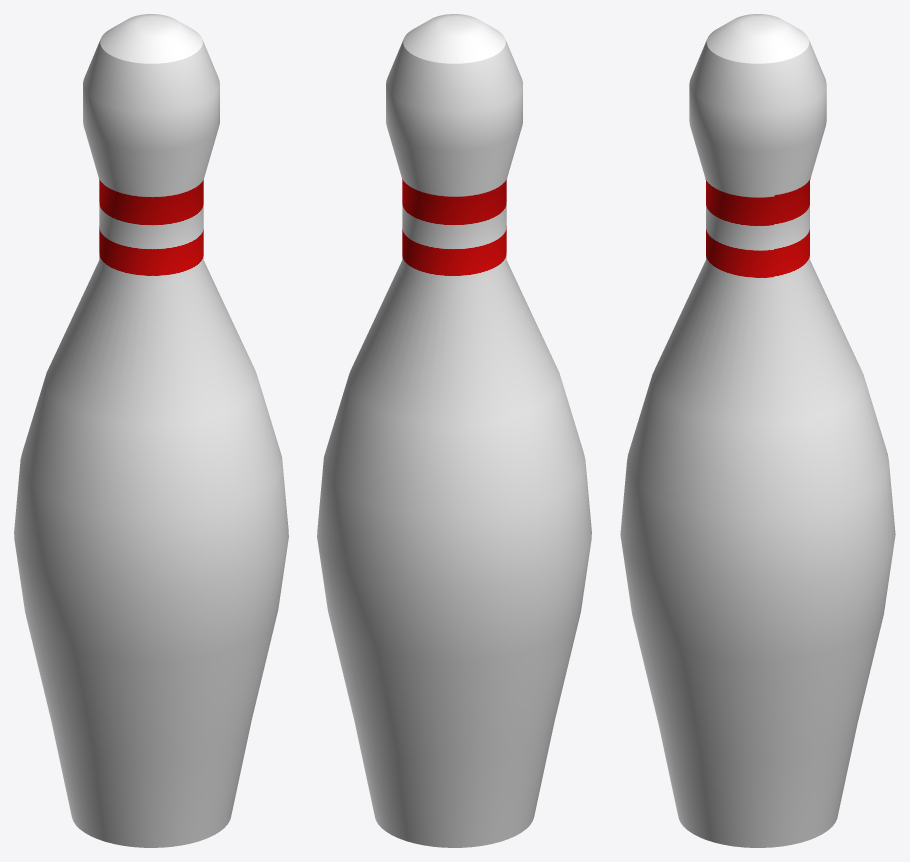
The model's file is Bowling_pin.fbx.
3 views of the same model, side by side, from view 1: azimuth 30°, elevation 25°; view 2: azimuth 150°, elevation 25°; view 3: azimuth 270°, elevation 25° (orthographic).
Parts seen in each view (by area): view 1: Cylinder; view 2: Cylinder; view 3: Cylinder.
Part boxes in pixels (x1,y1,x2,y2): Cylinder: (14, 14, 288, 847); Cylinder: (317, 14, 591, 847); Cylinder: (620, 14, 895, 847).
Size of the model in its own units: 108 by 342 by 108.
Materials: 1 (1 with a texture image).
